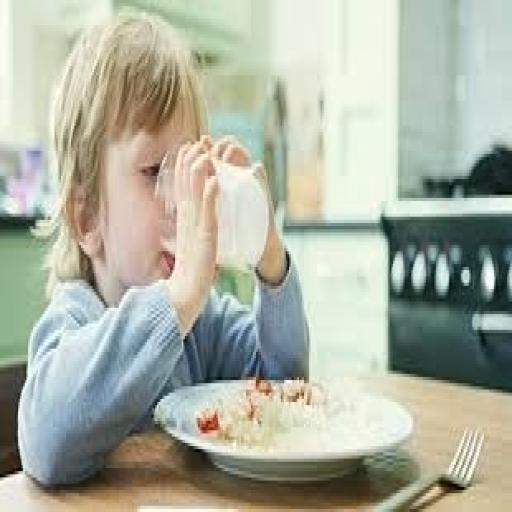drinking: (154, 142, 269, 276)
